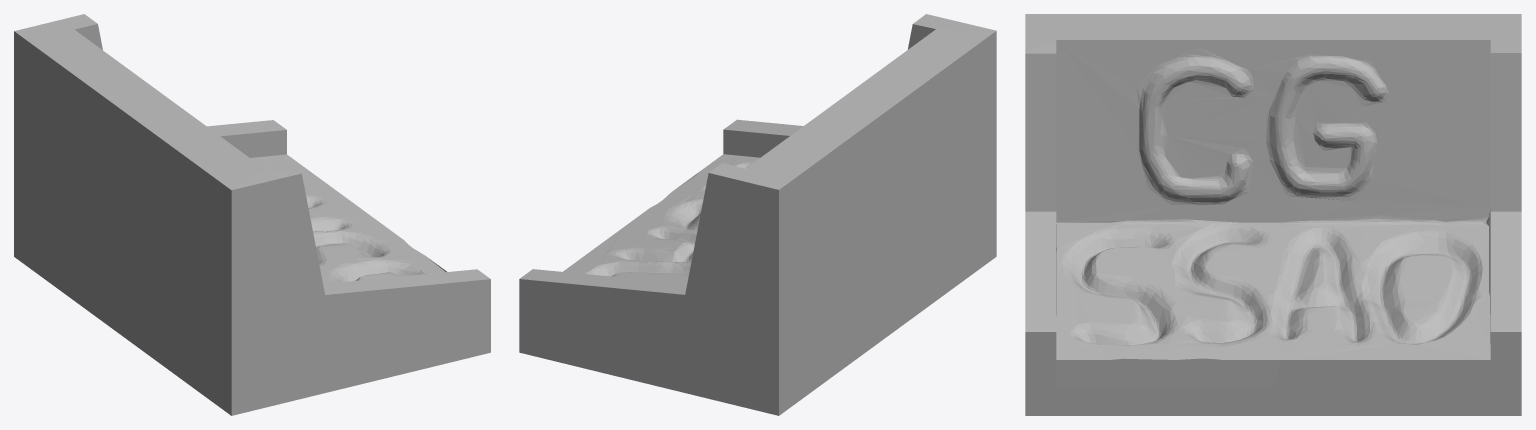
File: superficie2.obj
3 renders of one model, left to right at view 1: azimuth 30°, elevation 25°; view 2: azimuth 150°, elevation 25°; view 3: azimuth 270°, elevation 25°, orthographic. The views are drawn at different scales.
Visible parts, largest first — view 1: Cube; view 2: Cube; view 3: Cube.
Part boxes in pixels (x1,y1,x2,y2): Cube: (14, 14, 490, 415); Cube: (519, 14, 996, 415); Cube: (1025, 14, 1521, 415).
Bounding box in the file's own units: 5.53 × 4.6 × 8.03.
Materials: 1 (1 with a texture image).
